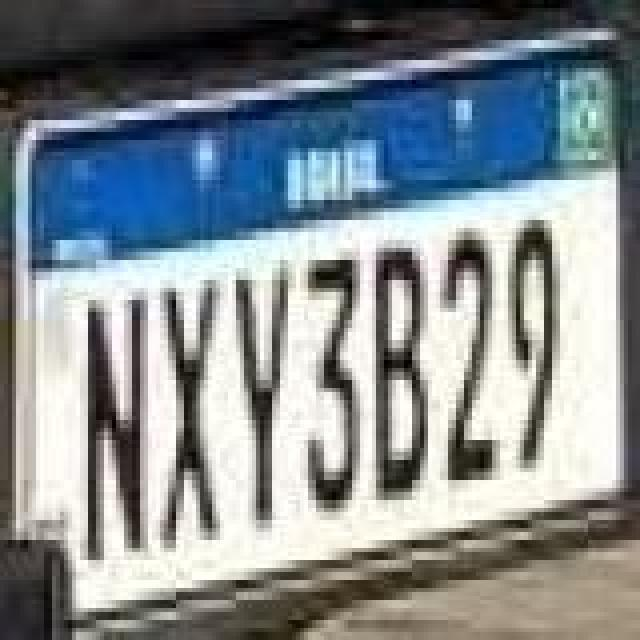2: (438, 226, 506, 486)
3: (304, 248, 360, 520)
9: (506, 214, 566, 474)
B: (370, 246, 430, 506)
N: (74, 296, 150, 568)
X: (154, 276, 222, 556)
Y: (230, 256, 298, 536)
